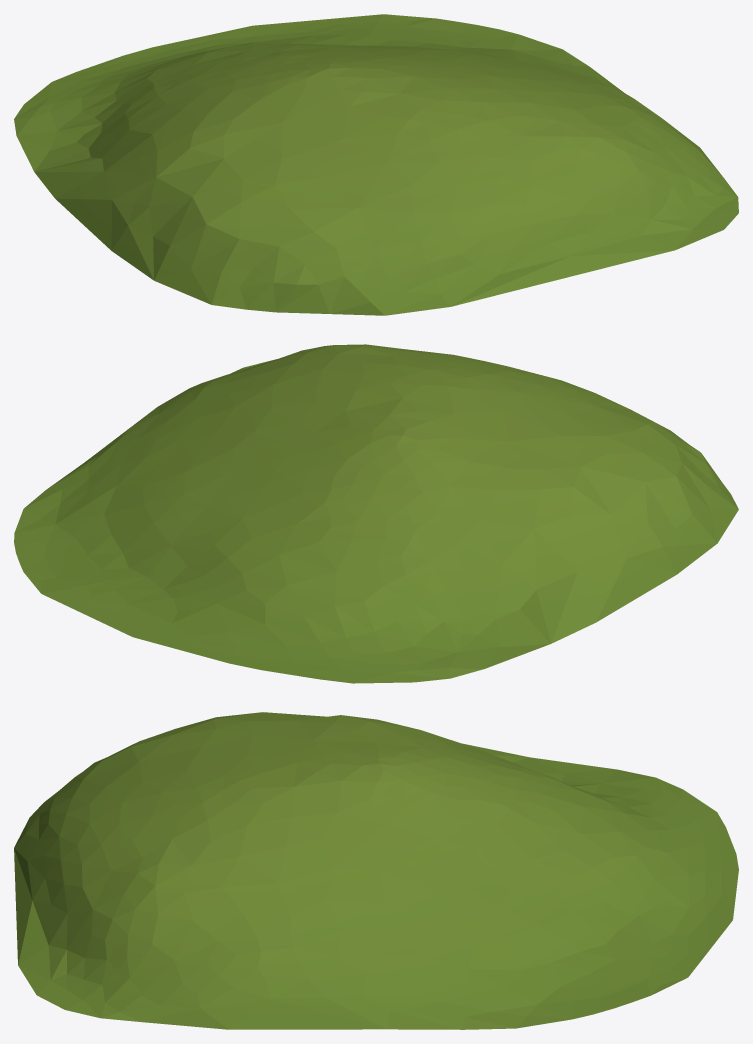
The model's file is Hill_01.glb.
The picture shows the model from 3 angles, top to bottom: view 1: azimuth 30°, elevation 25°; view 2: azimuth 150°, elevation 25°; view 3: azimuth 270°, elevation 25°; orthographic projection. The views are drawn at different scales.
Visible parts, largest first — view 1: Hill_01; view 2: Hill_01; view 3: Hill_01.
Boxes of the visible parts, x1,y1,x2,y2 form: Hill_01: (14,14,738,315); Hill_01: (14,344,738,683); Hill_01: (14,712,738,1029).
Bounding box in the file's own units: 56.43 × 9.82 × 60.8.
Materials: 1 (1 with a texture image).
